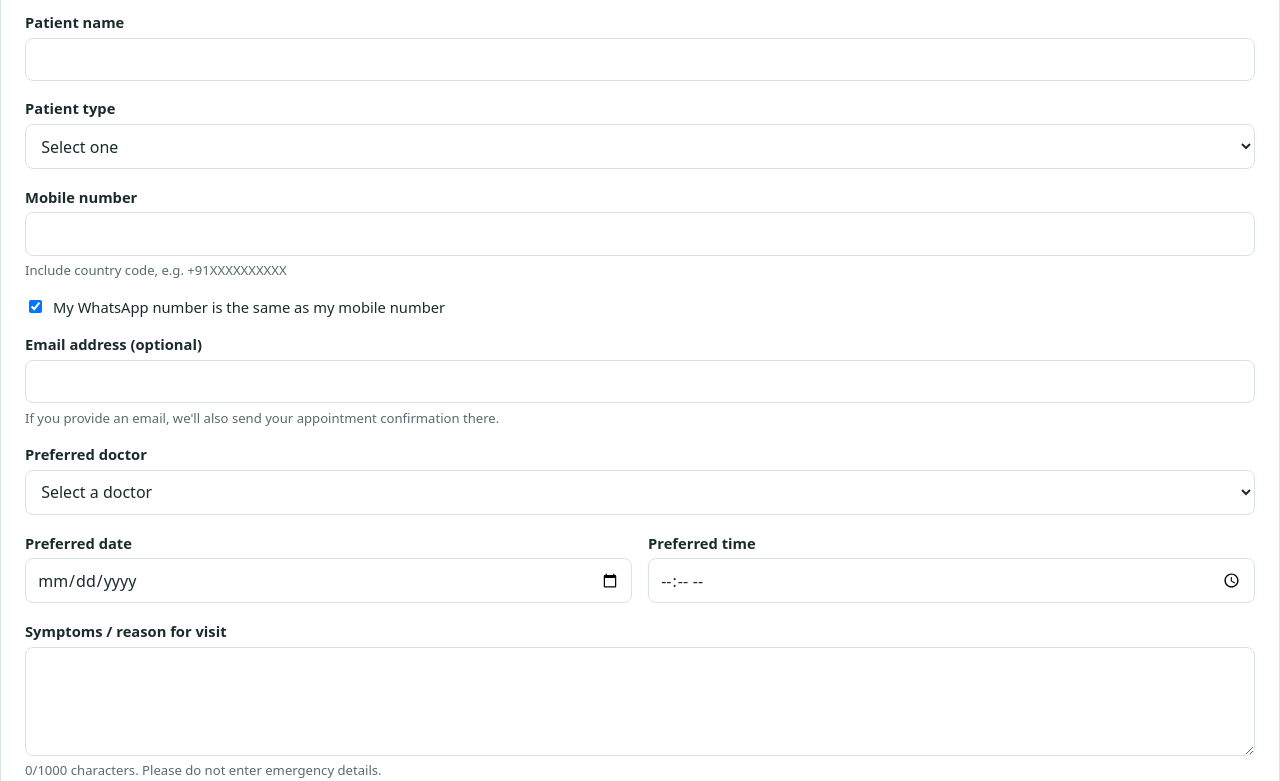
Test: BookingForm › rejects a mobile number that is not in international format
In the field labelled "Mobile number": coordinates (640, 234) [25, 212, 1255, 256], type "9876543210"
(page scrolled)
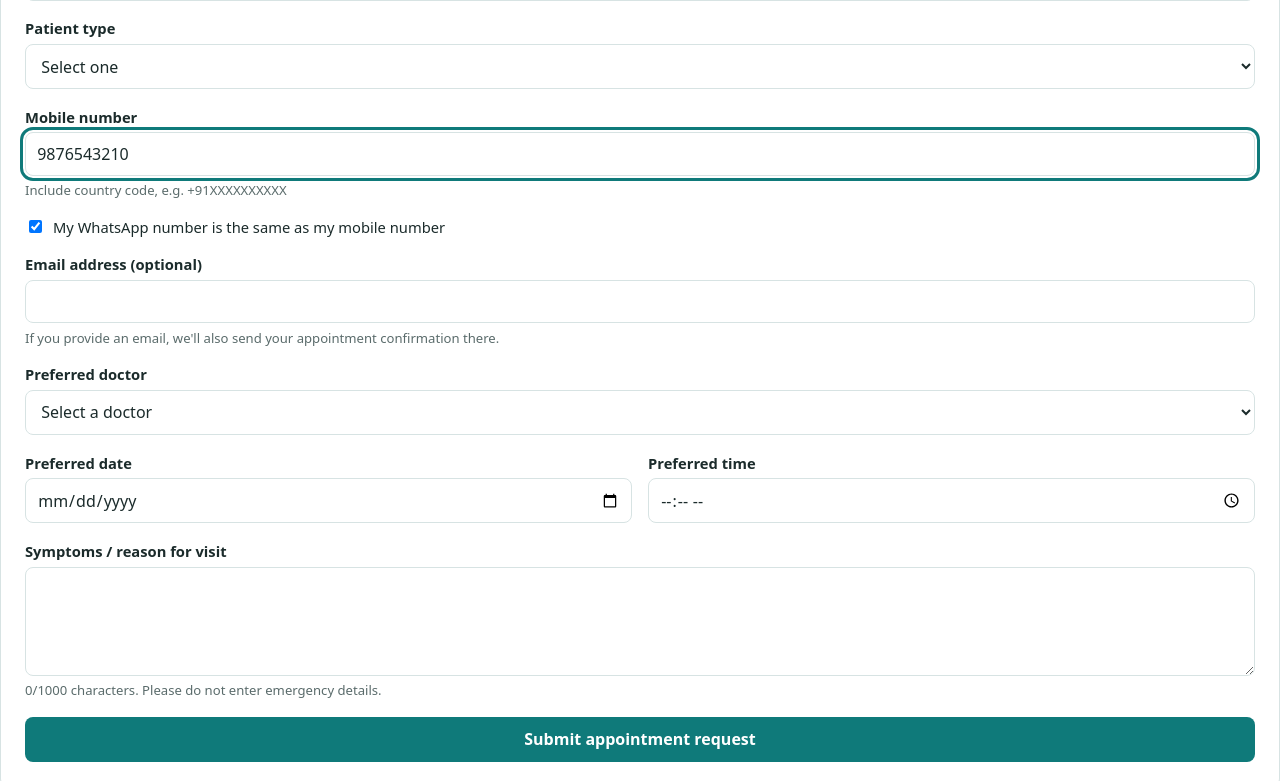
Click the button "Submit appointment request": coordinates (640, 739) [25, 717, 1255, 762]
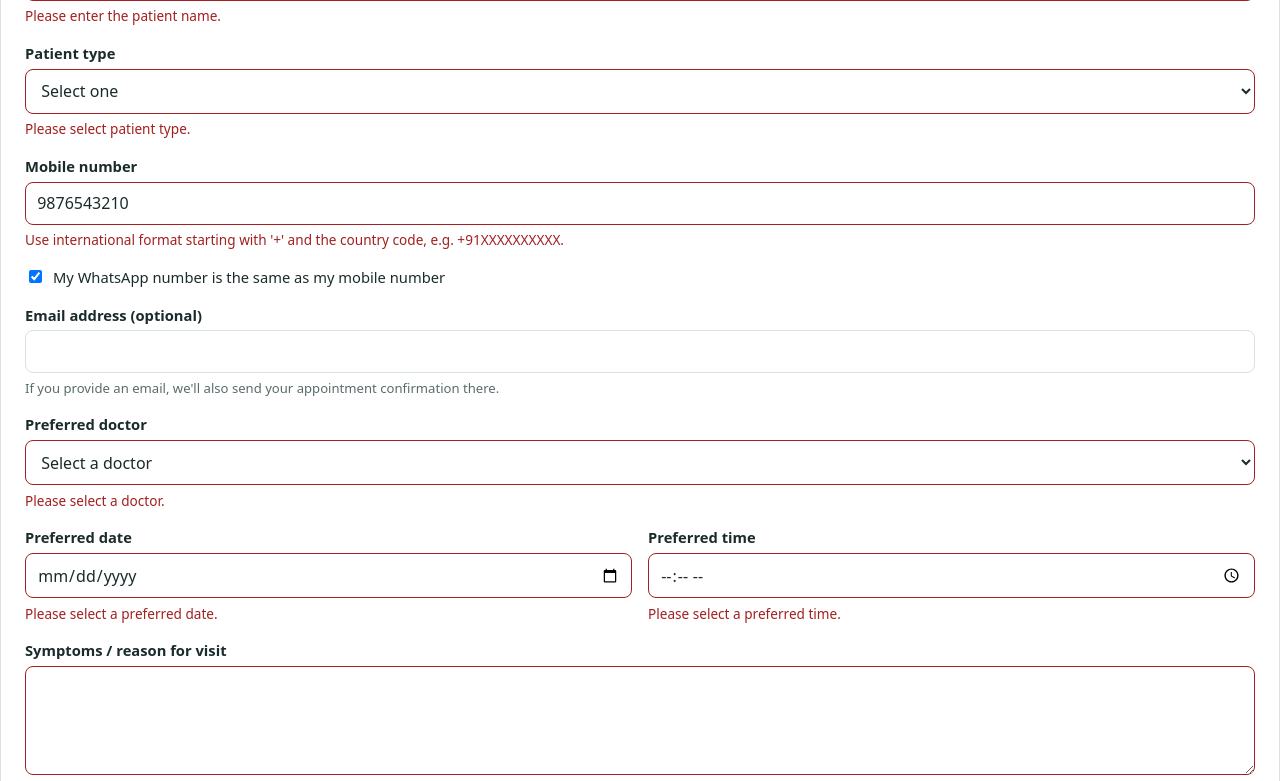
Expected: the text "Use international format starting with" is shown, [25, 230, 564, 249]
